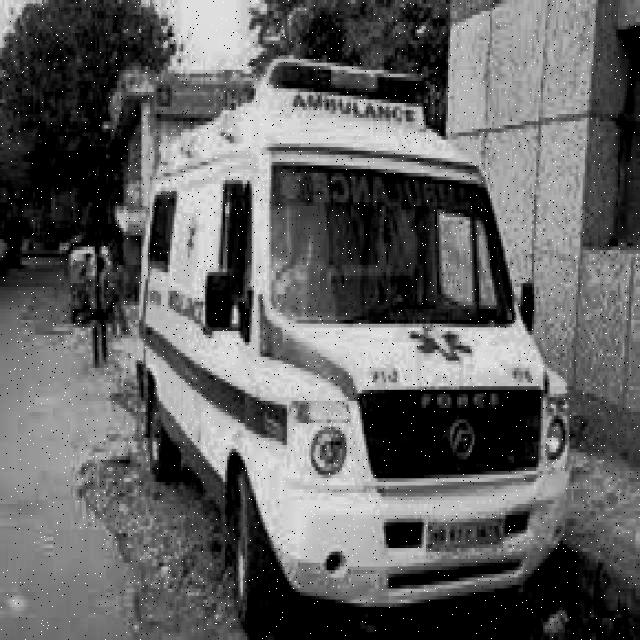LCV: (246, 56, 570, 603)
